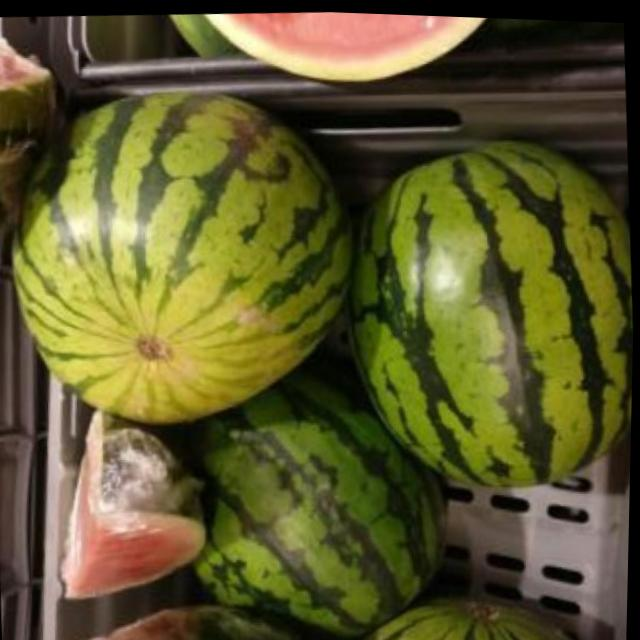Watermelon: (4, 74, 363, 435), (338, 125, 638, 496), (181, 388, 462, 640), (45, 404, 217, 603)
